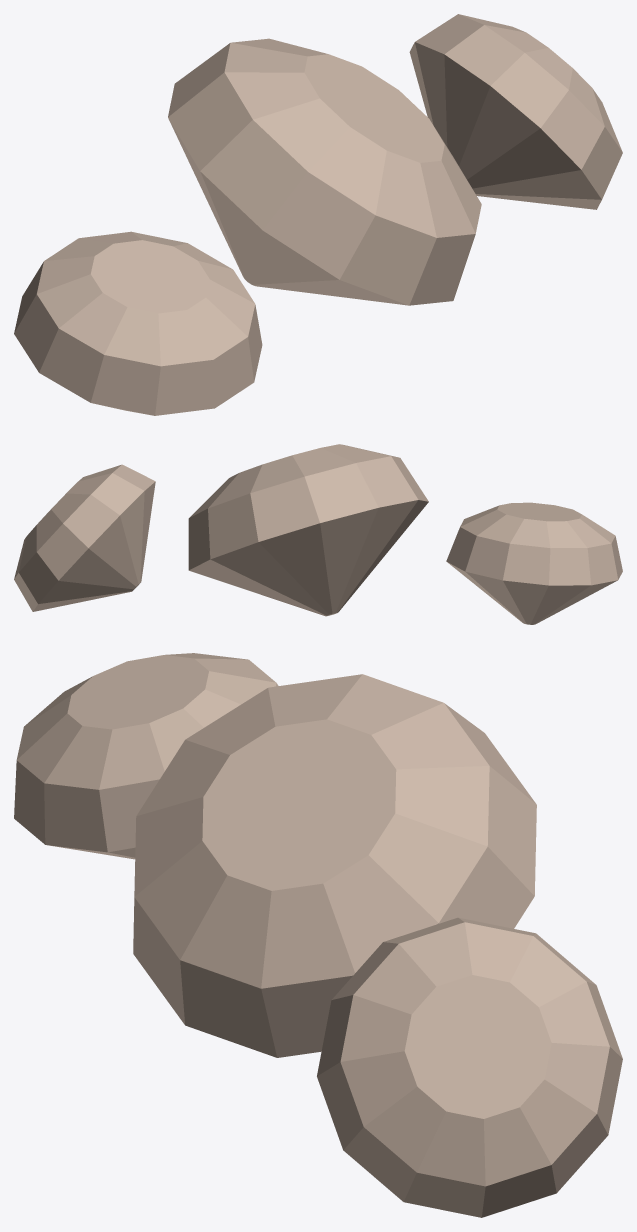
3 renders of one model, top to bottom at view 1: azimuth 30°, elevation 25°; view 2: azimuth 150°, elevation 25°; view 3: azimuth 270°, elevation 25°, orthographic. The views are drawn at different scales.
Parts seen in each view (by area): view 1: TI025 / individually faceted stone 1, TI025 / individually faceted stone 0, TI025 / individually faceted stone 2; view 2: TI025 / individually faceted stone 1, TI025 / individually faceted stone 0, TI025 / individually faceted stone 2; view 3: TI025 / individually faceted stone 1, TI025 / individually faceted stone 2, TI025 / individually faceted stone 0.
Part boxes in pixels (left/top/right/bottom): TI025 / individually faceted stone 1: left=168, top=38, right=481, bottom=305; TI025 / individually faceted stone 0: left=14, top=231, right=262, bottom=415; TI025 / individually faceted stone 2: left=409, top=14, right=622, bottom=209; TI025 / individually faceted stone 1: left=188, top=444, right=428, bottom=616; TI025 / individually faceted stone 0: left=446, top=502, right=622, bottom=624; TI025 / individually faceted stone 2: left=14, top=464, right=155, bottom=611; TI025 / individually faceted stone 1: left=133, top=674, right=536, bottom=1057; TI025 / individually faceted stone 2: left=317, top=917, right=622, bottom=1217; TI025 / individually faceted stone 0: left=14, top=653, right=278, bottom=859.
Bounding box in the file's own units: 2.53 × 0.8923 × 1.58.
